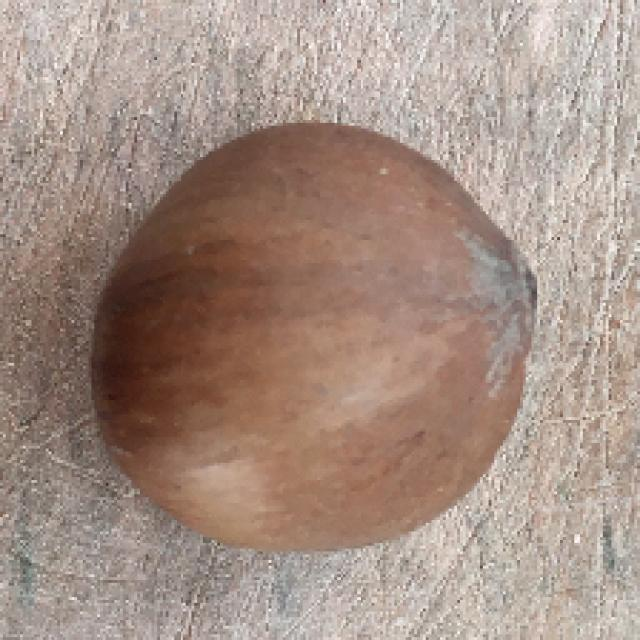DamagedHazelnut: (94, 122, 542, 554)
